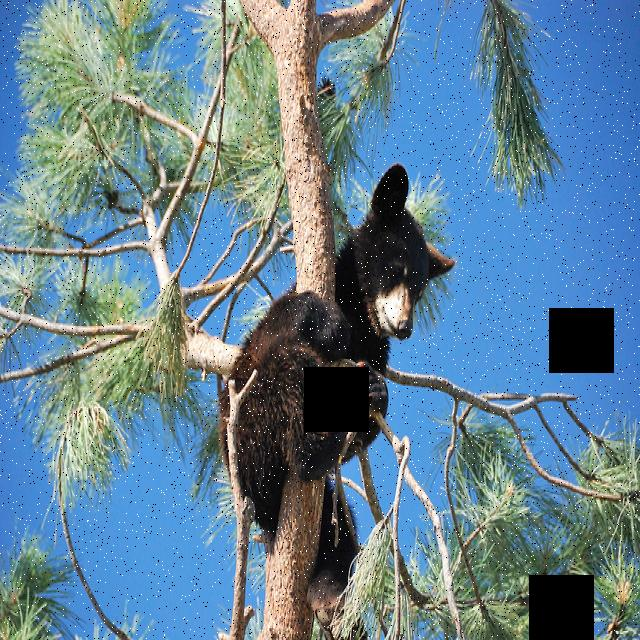Bear: (223, 160, 457, 606)
